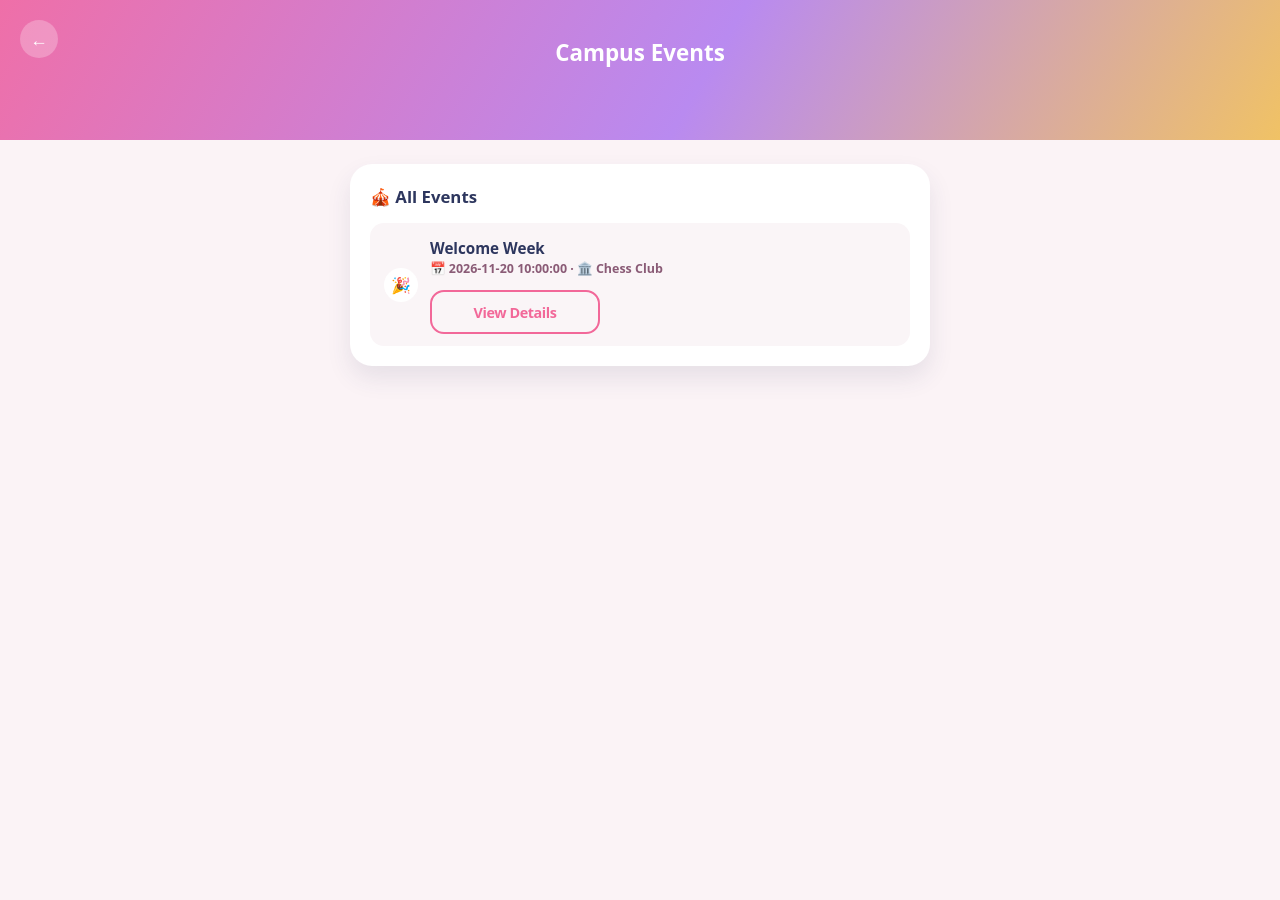
Test case: EventsPage (browse events) › the back button returns from the event details to the events list
Step 1. Click the button "View Details" → (515, 312), box [430,290,600,334]
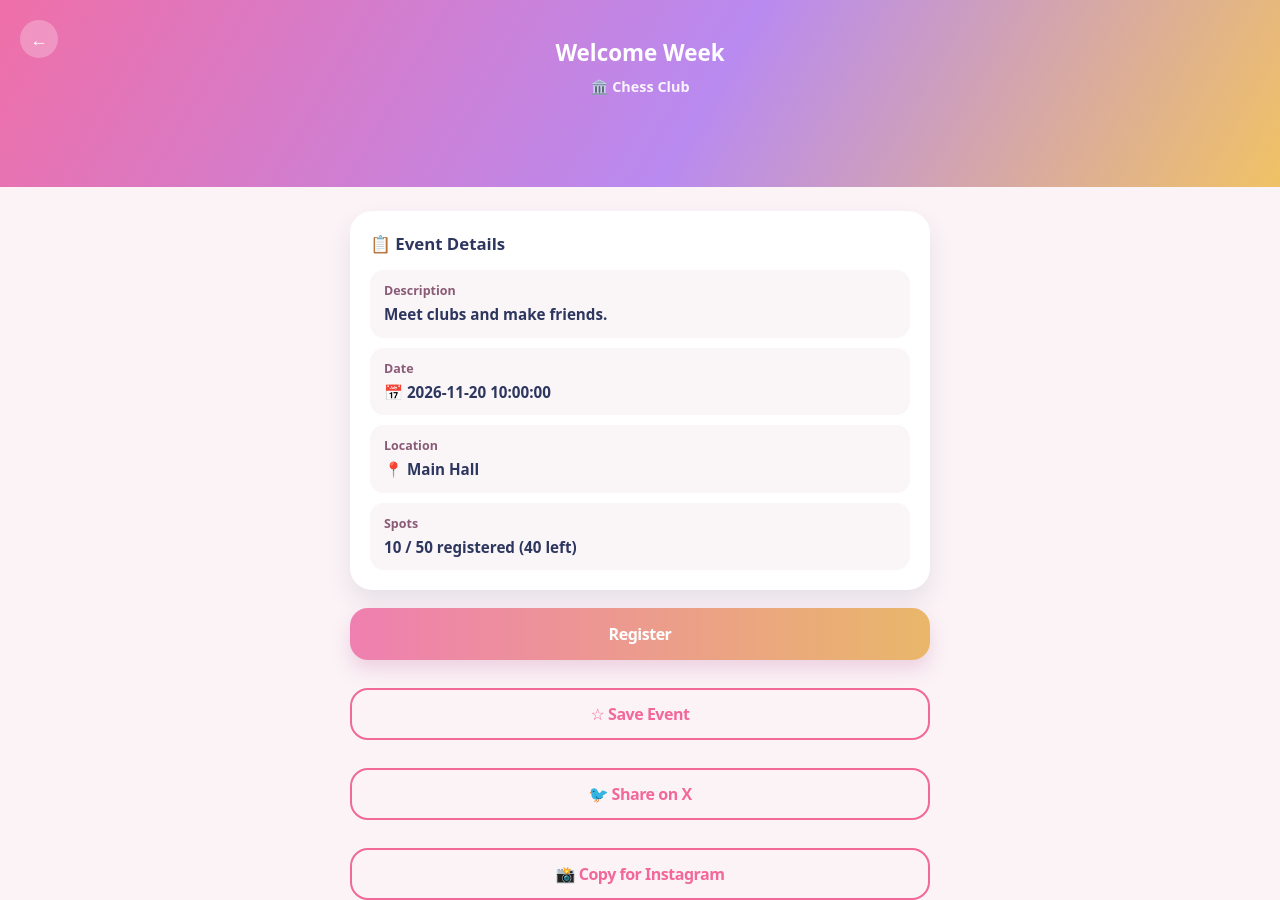
Step 2. Click the button named "Back to events" → (39, 39), box [20,20,58,58]
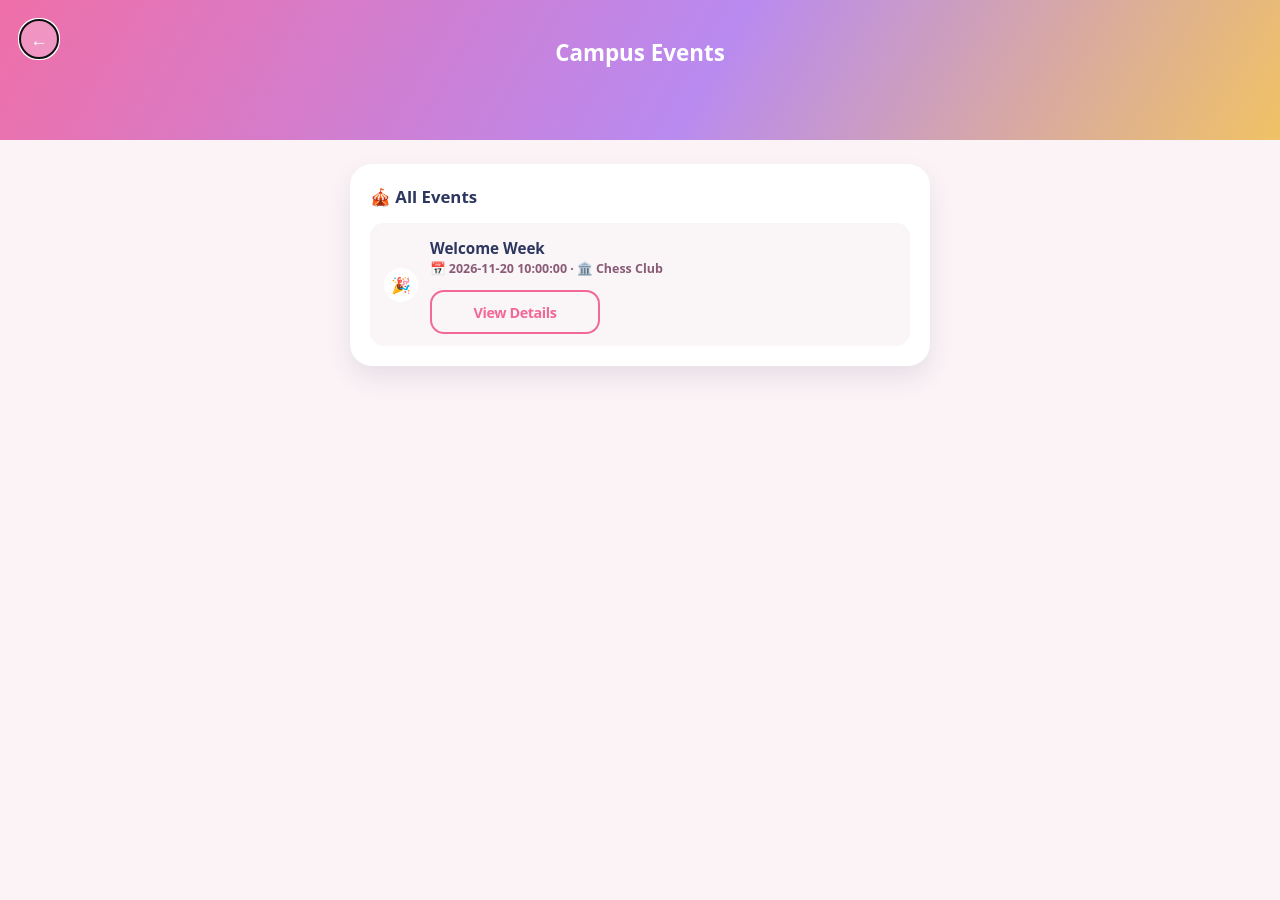
Now the heading "Campus Events" is shown, box [555,37,725,68]
